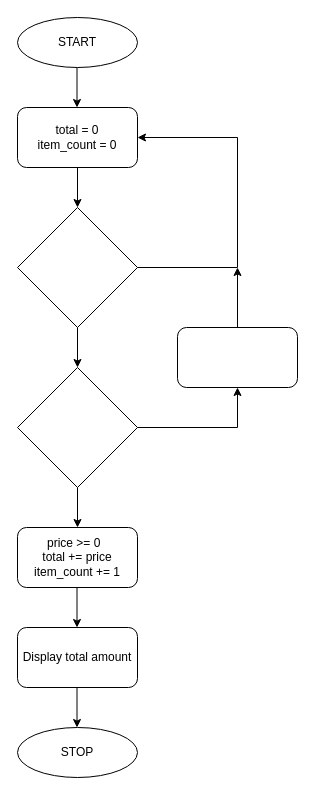
This 315x795 diagram has some shape labels left out. The shapes that lost their labels are listed below. From the top down, each one's box as (x1, y1, x2, y2) in pixels, then its label:
(16, 206, 138, 328): WHILE item_count < 1
(176, 326, 298, 388): price < 0 Display error continue
(16, 366, 138, 488): Enter price for item
